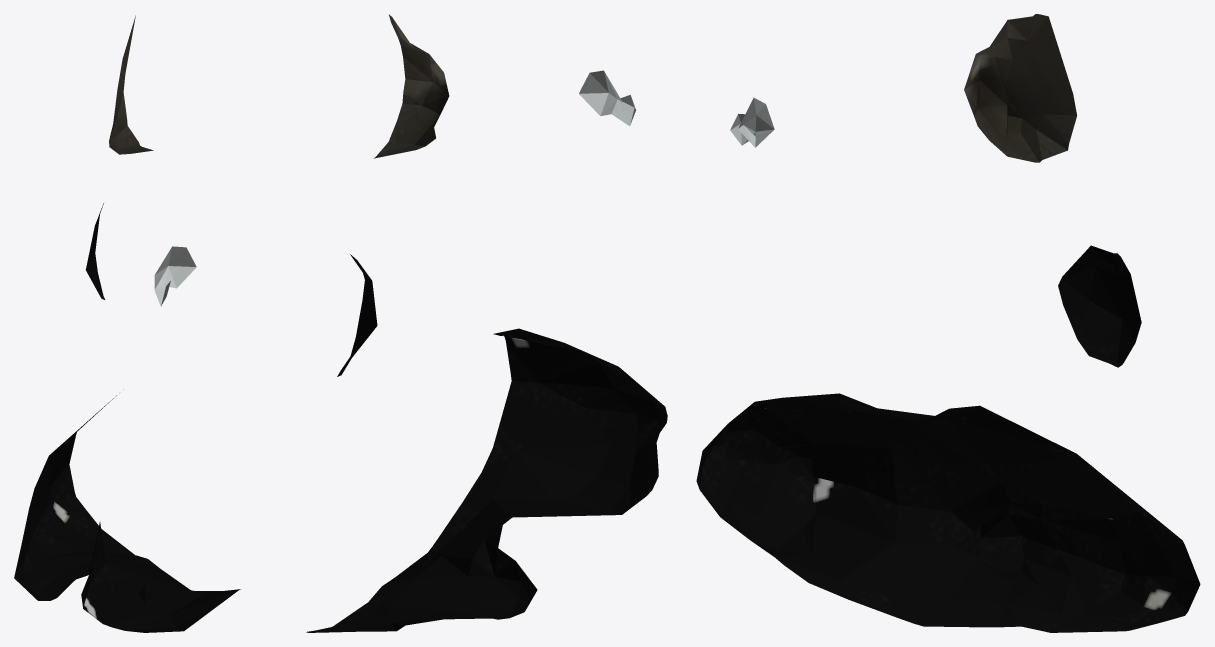
3 renders of one model, left to right at view 1: azimuth 30°, elevation 25°; view 2: azimuth 150°, elevation 25°; view 3: azimuth 270°, elevation 25°, orthographic. The views are drawn at different scales.
Bounding box in the file's own units: 0.1431 × 0.4606 × 0.3395.
Materials: 1 (1 with a texture image).
